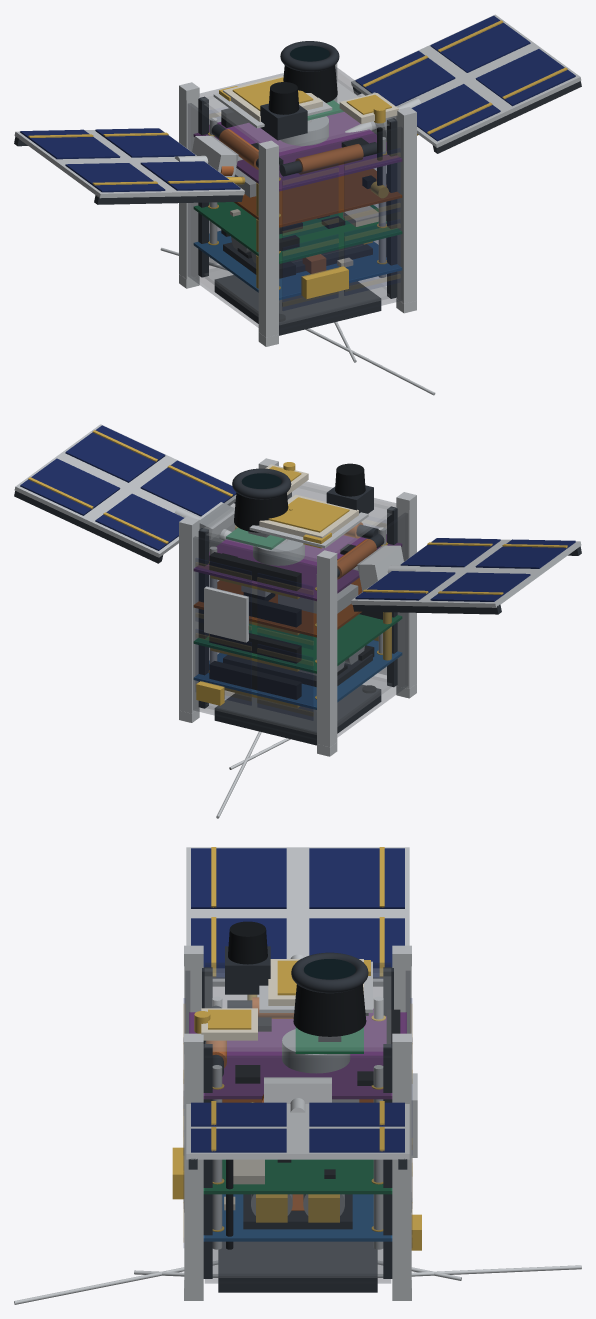
Rendered from cubesat-1u-subsystems.glb.
The picture shows the model from 3 angles, top to bottom: view 1: azimuth 30°, elevation 25°; view 2: azimuth 150°, elevation 25°; view 3: azimuth 270°, elevation 25°; orthographic projection. The views are drawn at different scales.
Parts seen in each view (by area): view 1: panel_front, wing_pos_x, panel_left, wing_neg_x, antenna_deployer_tray, obc_board_pcb, adcs_board_pcb, comms_board_pcb, wing_pos_x_substrate, rail_4, solar_cell_4, rail_3 (+31 smaller); view 2: panel_back, wing_pos_x, panel_left, wing_neg_x, antenna_deployer_tray, wing_pos_x_substrate, rail_1, solar_cell_7, solar_cell_8, rail_2, obc_board_pcb, plate_top (+33 smaller); view 3: panel_right, wing_neg_x, wing_pos_x, antenna_deployer_tray, adcs_board_pcb, plate_top, wing_neg_x_substrate, plate_bottom, obc_board_pcb, wing_pos_x_substrate, rail_2, rail_3 (+30 smaller).
Boxes of the visible parts, left/top/right/bottom form: panel_front: left=279, top=127, right=402, bottom=330; wing_pos_x: left=353, top=15, right=581, bottom=153; panel_left: left=188, top=103, right=258, bottom=327; wing_neg_x: left=14, top=128, right=242, bottom=204; antenna_deployer_tray: left=214, top=275, right=381, bottom=335; obc_board_pcb: left=193, top=202, right=402, bottom=263; adcs_board_pcb: left=193, top=112, right=402, bottom=191; comms_board_pcb: left=234, top=169, right=402, bottom=227; wing_pos_x_substrate: left=351, top=14, right=581, bottom=147; rail_4: left=258, top=153, right=278, bottom=337; solar_cell_4: left=344, top=148, right=399, bottom=224; rail_3: left=396, top=120, right=416, bottom=303; panel_back: left=193, top=536, right=316, bottom=739; wing_pos_x: left=14, top=425, right=236, bottom=563; panel_left: left=337, top=513, right=407, bottom=736; wing_neg_x: left=353, top=538, right=581, bottom=614; antenna_deployer_tray: left=214, top=684, right=381, bottom=745; wing_pos_x_substrate: left=14, top=424, right=236, bottom=557; rail_1: left=317, top=563, right=337, bottom=747; solar_cell_7: left=258, top=644, right=312, bottom=720; solar_cell_8: left=258, top=573, right=312, bottom=649; rail_2: left=179, top=530, right=199, bottom=713; obc_board_pcb: left=193, top=614, right=402, bottom=673; plate_top: left=202, top=485, right=394, bottom=561; panel_right: left=205, top=1056, right=390, bottom=1283; wing_neg_x: left=191, top=847, right=404, bottom=978; wing_pos_x: left=188, top=1101, right=407, bottom=1169; antenna_deployer_tray: left=218, top=1241, right=377, bottom=1292; adcs_board_pcb: left=189, top=1009, right=406, bottom=1099; plate_top: left=205, top=968, right=390, bottom=1051; wing_neg_x_substrate: left=186, top=847, right=409, bottom=986; plate_bottom: left=213, top=1242, right=382, bottom=1277; obc_board_pcb: left=203, top=1159, right=392, bottom=1194; wing_pos_x_substrate: left=186, top=1104, right=409, bottom=1159; rail_2: left=392, top=1054, right=411, bottom=1288; rail_3: left=184, top=1054, right=203, bottom=1288.
Bounding box in the file's own units: 0.3215 × 0.1631 × 0.2495.
